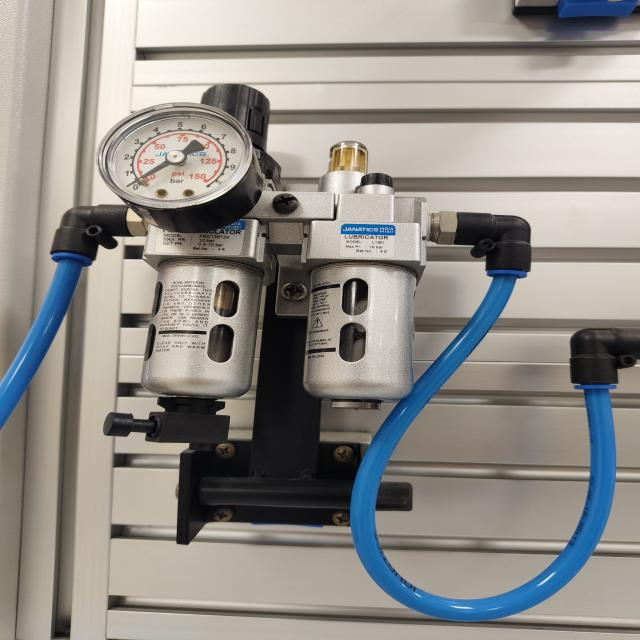FRL unit: (54, 76, 510, 552)
push button: (95, 100, 265, 232)
